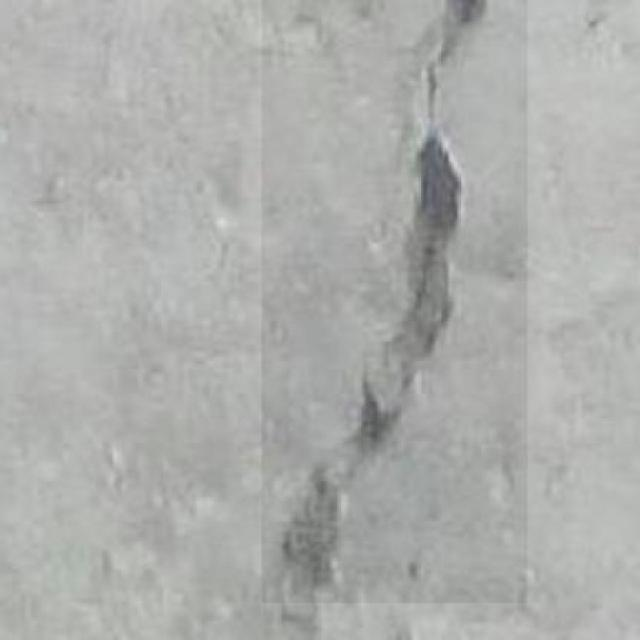crack: (266, 0, 510, 640)
